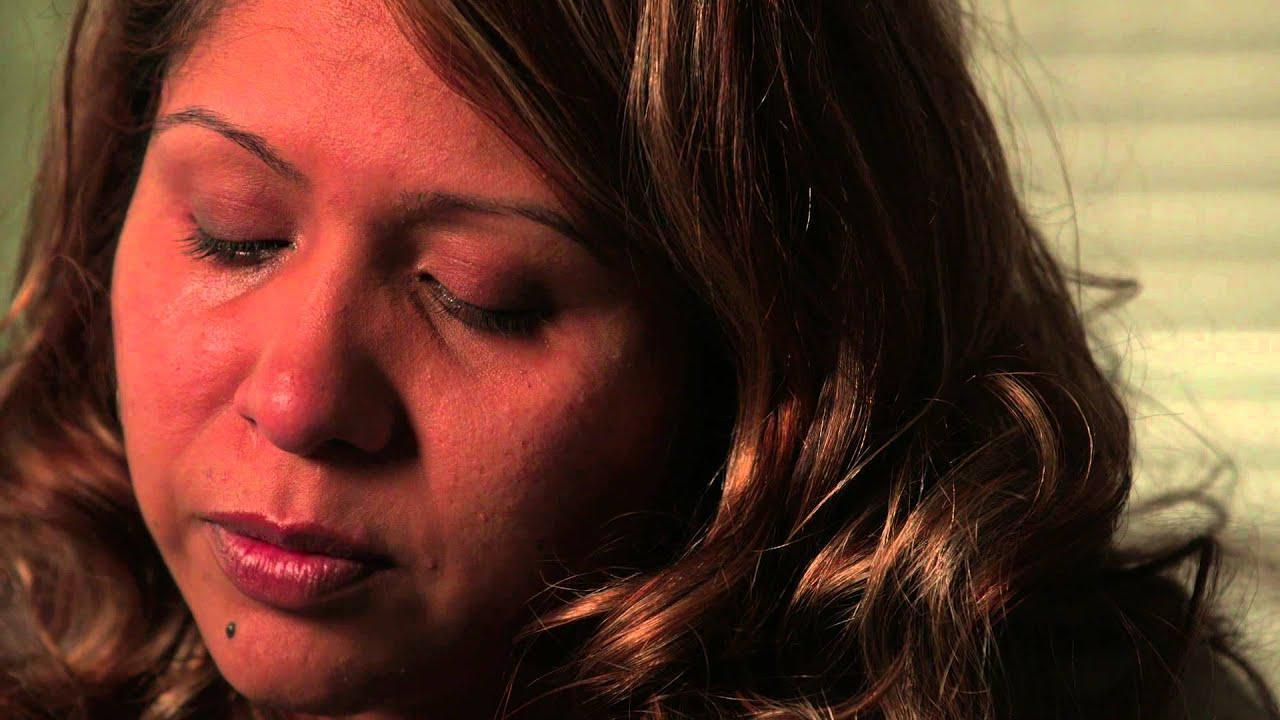Drunk: (136, 19, 621, 688)
